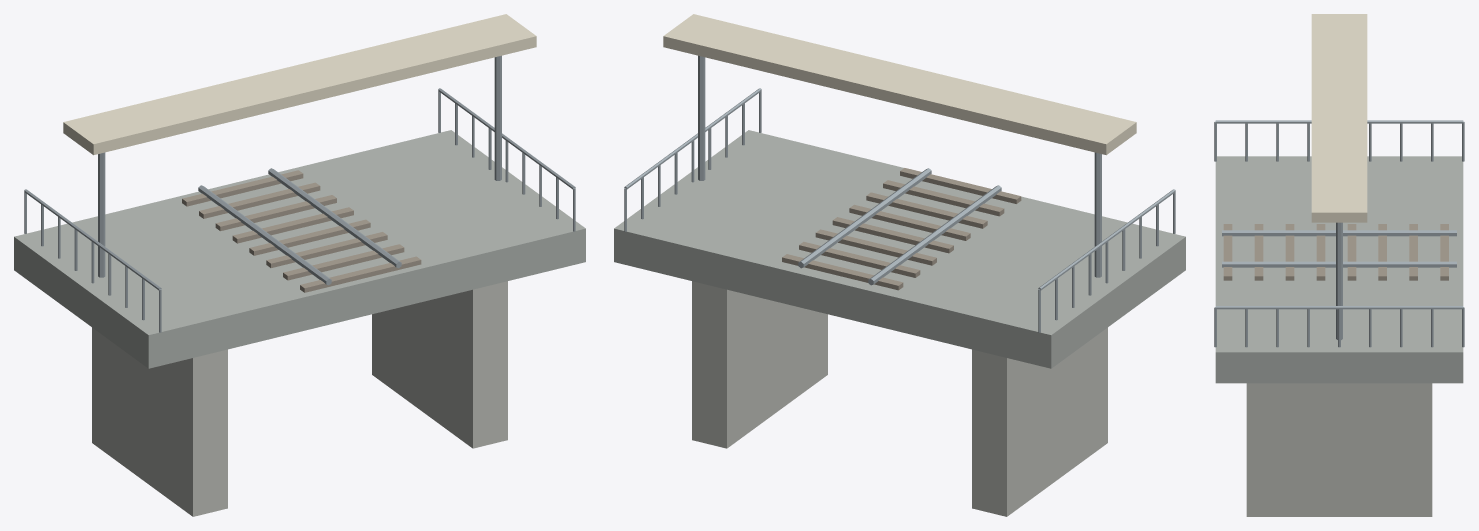
The model's file is SM_ENV_Building_06_ElevatedPlatform.glb.
3 views of the same model, side by side, from view 1: azimuth 30°, elevation 25°; view 2: azimuth 150°, elevation 25°; view 3: azimuth 270°, elevation 25° (orthographic). The views are drawn at different scales.
Parts seen in each view (by area): view 1: SM_ENV_Building_06_ElevatedPlatform; view 2: SM_ENV_Building_06_ElevatedPlatform; view 3: SM_ENV_Building_06_ElevatedPlatform.
Part boxes in pixels (x1,y1,x2,y2): SM_ENV_Building_06_ElevatedPlatform: (14, 14, 585, 516); SM_ENV_Building_06_ElevatedPlatform: (614, 14, 1185, 516); SM_ENV_Building_06_ElevatedPlatform: (1214, 14, 1464, 516).
Size of the model in its own units: 7.6 by 5.94 by 4.04.
